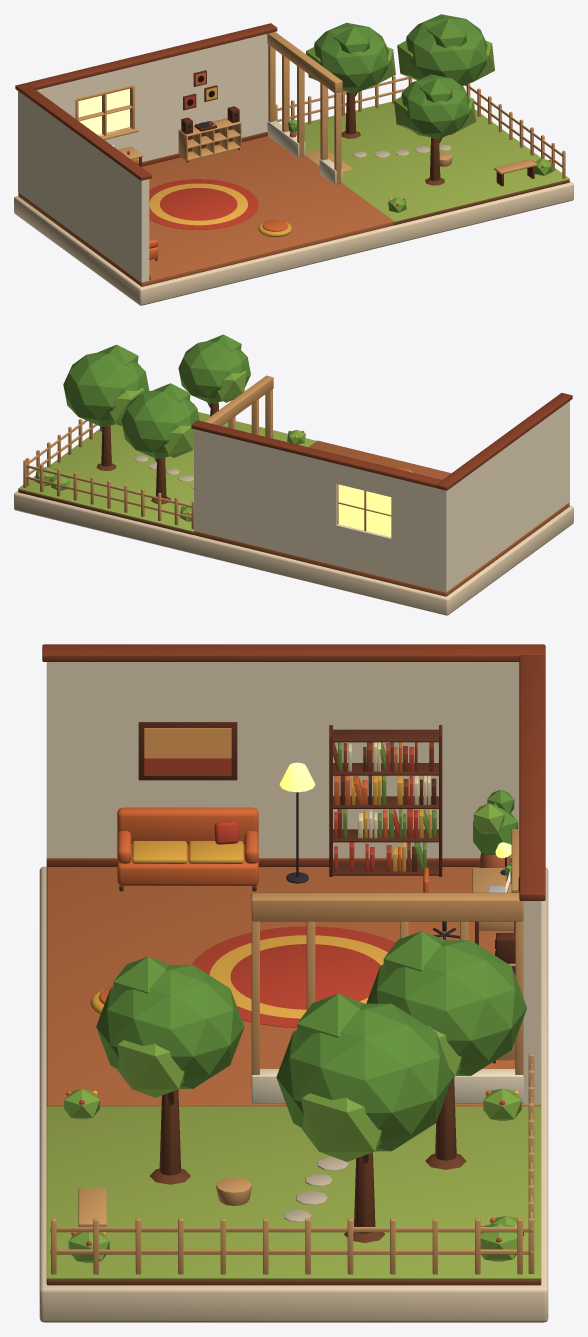
Rendered from room.glb.
3 views of the same model, one above another, from view 1: azimuth 30°, elevation 25°; view 2: azimuth 150°, elevation 25°; view 3: azimuth 270°, elevation 25° (orthographic). The views are drawn at different scales.
Parts seen in each view (by area): view 1: Room_Floor, Garden_Ground, Wall_Left, Wall_Back, Base, Wall_Partition, Tree_2_Canopy, Wall_Trim, Rug, Tree_1_Canopy, Tree_3_Canopy, Fence (+9 smaller); view 2: Wall_Back, Wall_Left, Base, Garden_Ground, Tree_2_Canopy, Wall_Trim, Tree_1_Canopy, Tree_3_Canopy, Room_Floor, Fence, Window_Back, Wall_Partition (+3 smaller); view 3: Wall_Left, Garden_Ground, Room_Floor, Base, Tree_2_Canopy, Wall_Trim, Tree_3_Canopy, Wall_Partition, Tree_1_Canopy, Bookshelf, Rug, Sofa (+13 smaller).
Part boxes in pixels (x1=…): Room_Floor: x1=18, y1=136, x2=393, y2=286; Garden_Ground: x1=296, y1=101, x2=569, y2=225; Wall_Left: x1=18, y1=91, x2=149, y2=282; Wall_Back: x1=36, y1=34, x2=268, y2=162; Base: x1=14, y1=181, x2=573, y2=305; Wall_Partition: x1=267, y1=32, x2=342, y2=184; Tree_2_Canopy: x1=397, y1=14, x2=494, y2=85; Wall_Trim: x1=15, y1=23, x2=277, y2=280; Rug: x1=149, y1=179, x2=258, y2=229; Tree_1_Canopy: x1=306, y1=22, x2=395, y2=93; Tree_3_Canopy: x1=394, y1=74, x2=476, y2=138; Fence: x1=275, y1=75, x2=565, y2=178; Wall_Back: x1=194, y1=429, x2=438, y2=590; Wall_Left: x1=438, y1=401, x2=569, y2=592; Base: x1=14, y1=491, x2=573, y2=615; Garden_Ground: x1=18, y1=412, x2=316, y2=534; Tree_2_Canopy: x1=63, y1=344, x2=149, y2=426; Wall_Trim: x1=191, y1=393, x2=572, y2=490; Tree_1_Canopy: x1=121, y1=383, x2=199, y2=458; Tree_3_Canopy: x1=178, y1=334, x2=250, y2=403; Room_Floor: x1=194, y1=440, x2=569, y2=596; Fence: x1=23, y1=419, x2=193, y2=529; Window_Back: x1=337, y1=484, x2=391, y2=536; Wall_Partition: x1=204, y1=375, x2=273, y2=438; Wall_Left: x1=46, y1=662, x2=519, y2=858; Garden_Ground: x1=46, y1=1106, x2=541, y2=1285; Room_Floor: x1=46, y1=867, x2=541, y2=1106; Base: x1=39, y1=866, x2=548, y2=1322; Tree_2_Canopy: x1=276, y1=993, x2=452, y2=1161; Wall_Trim: x1=42, y1=644, x2=545, y2=900; Tree_3_Canopy: x1=96, y1=956, x2=244, y2=1097; Wall_Partition: x1=251, y1=892, x2=523, y2=1103; Tree_1_Canopy: x1=366, y1=931, x2=526, y2=1076; Bookshelf: x1=329, y1=725, x2=442, y2=876; Rug: x1=192, y1=926, x2=395, y2=1027; Sofa: x1=117, y1=807, x2=258, y2=891.
Bounding box in the file's own units: 14.2 × 4.38 × 7.2.
